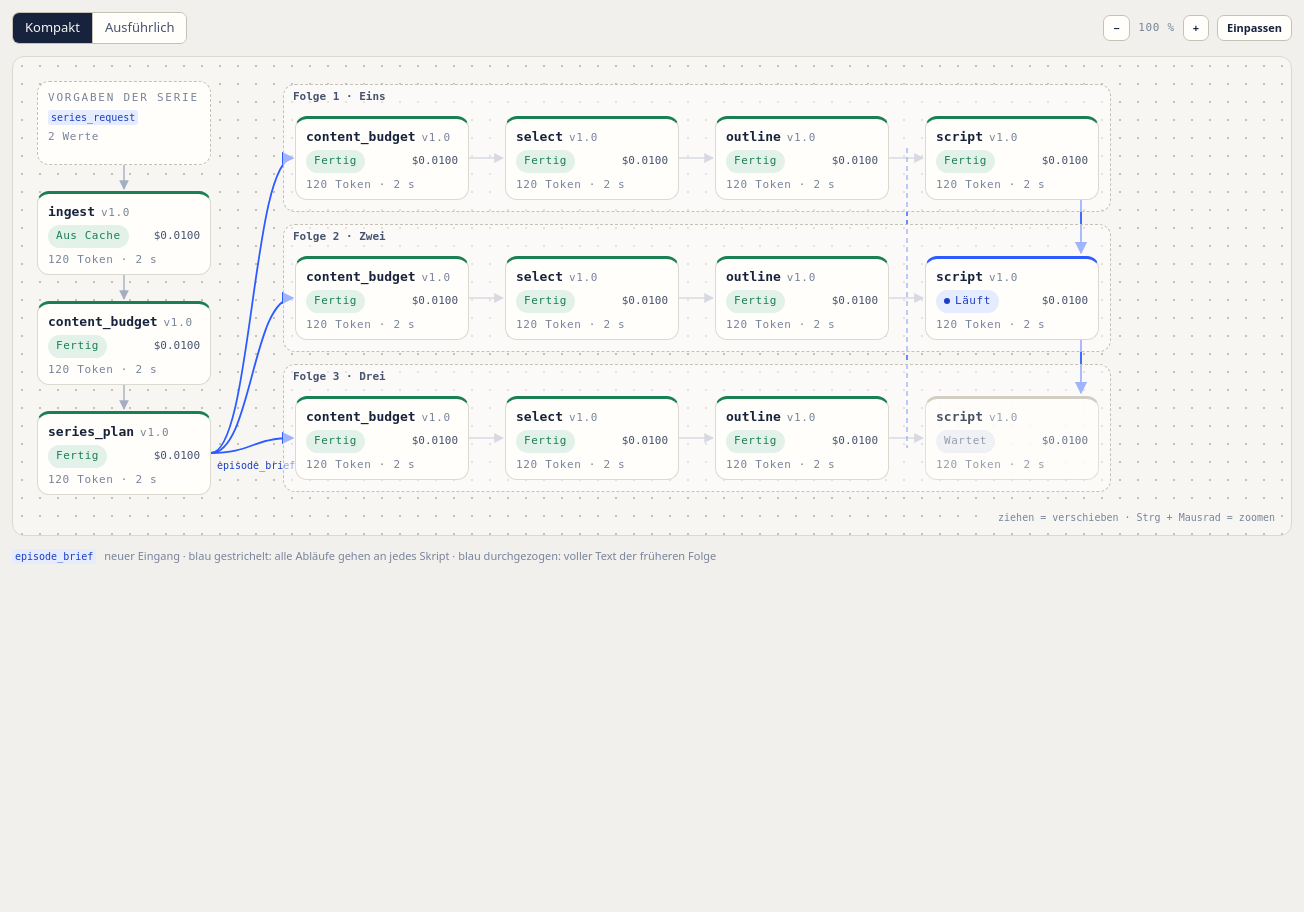
Test: pipeline canvas › adds the inputs in the detailed view
Expected: the text "series_context" is not shown
Step 1. Click the button "Ausführlich" → (139, 28), box [92,13,186,42]
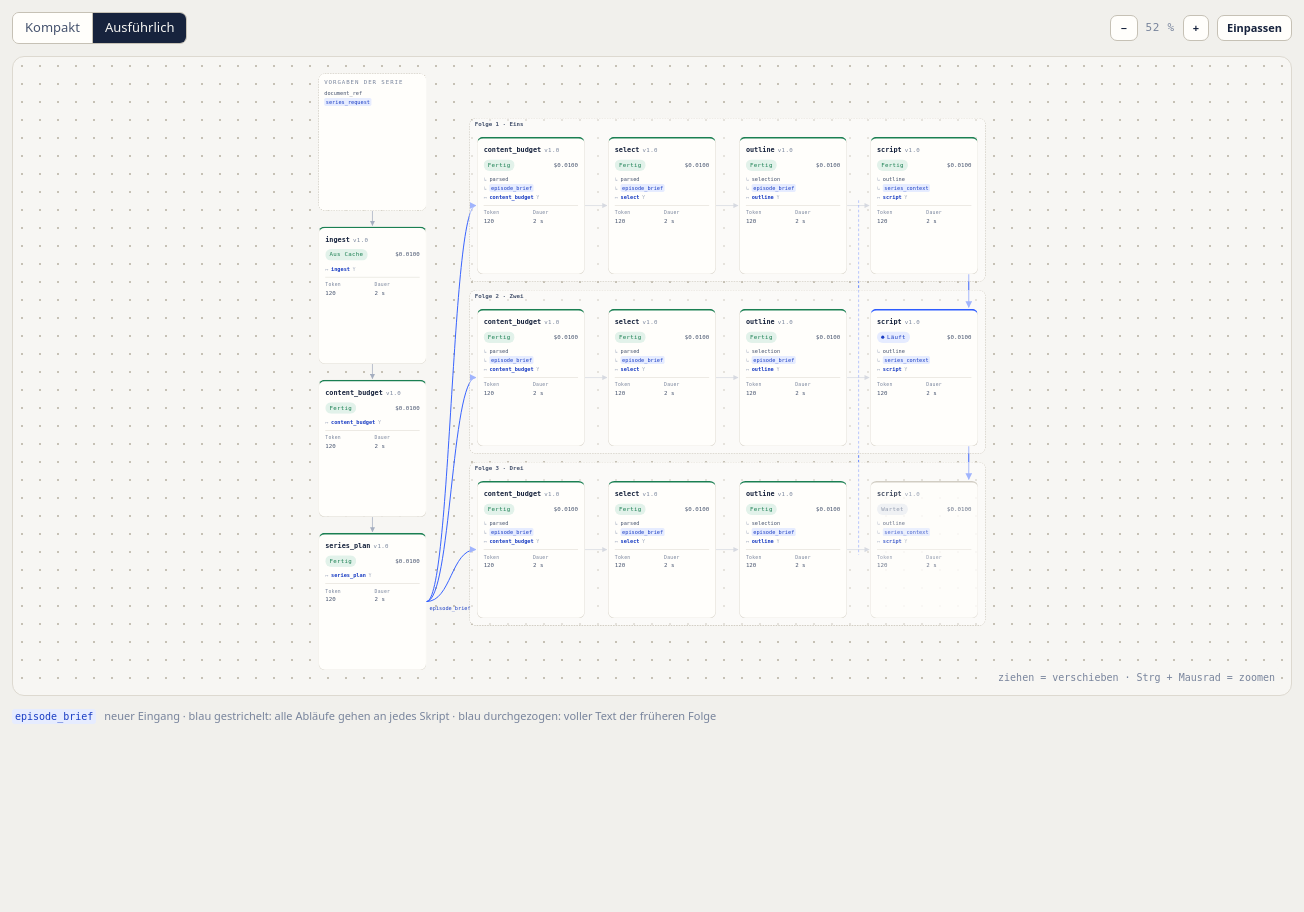
Expected: the text "series_context" is shown, [870,308,978,446]
